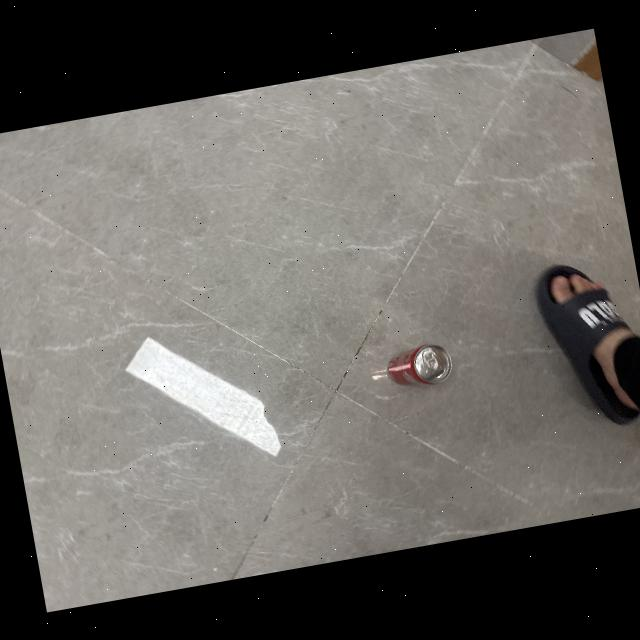Cola: (381, 336, 458, 396)
